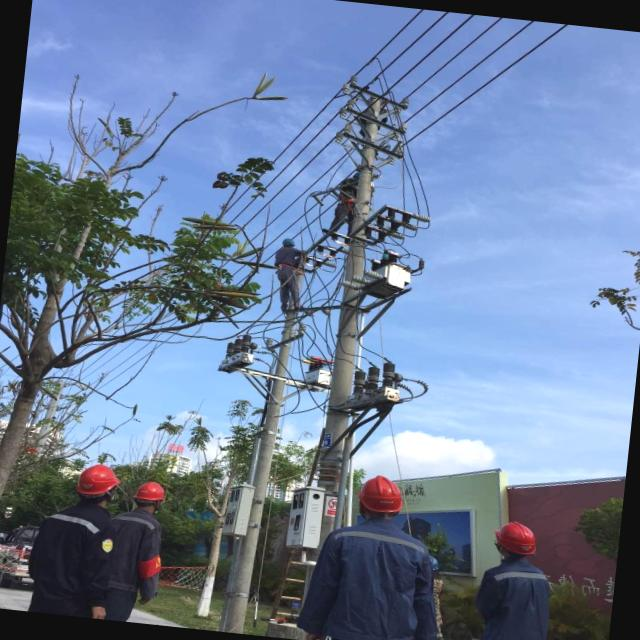helmet: (347, 468, 416, 524), (70, 461, 128, 503), (485, 520, 541, 562), (129, 474, 174, 509)
no-vest: (305, 513, 444, 640), (23, 506, 125, 620), (463, 558, 564, 640)
